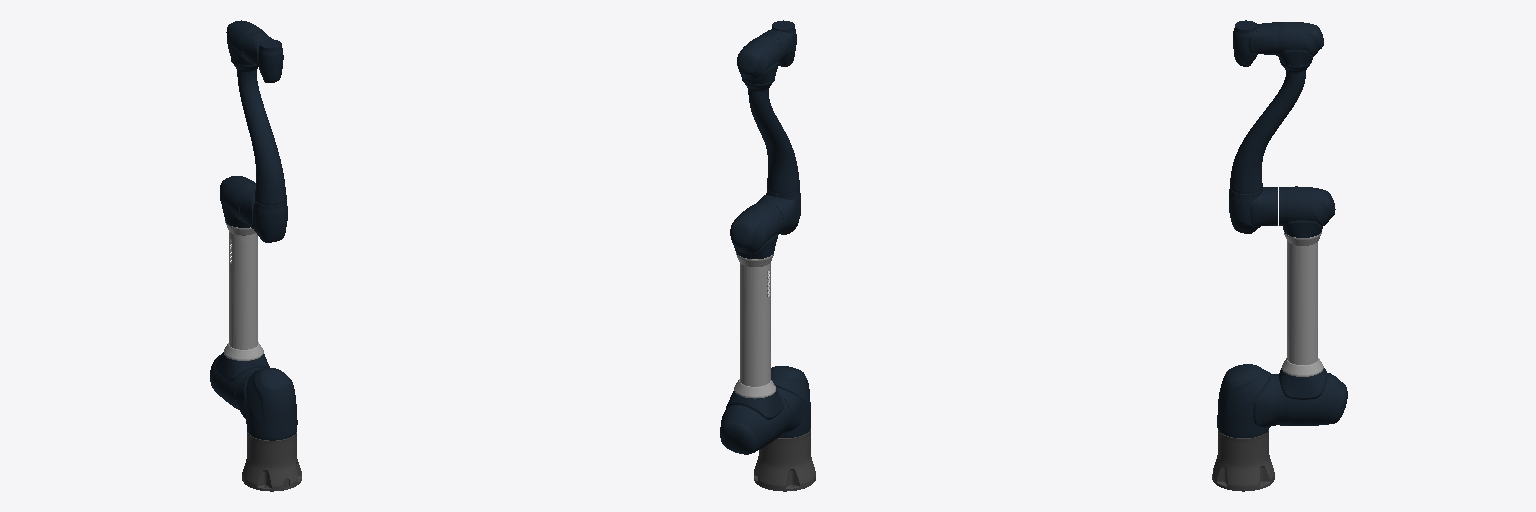
robot.urdf — h2017:
<?xml version="1.0" ?>
<!-- =================================================================================== -->
<!-- |    This document was autogenerated by xacro from /dsr_description2/xacro/h2017.urdf.xacro | -->
<!-- |    EDITING THIS FILE BY HAND IS NOT RECOMMENDED                                 | -->
<!-- =================================================================================== -->
<robot name="h2017">
  <material name="black">
    <color rgba="0.0 0.0 0.0 1.0"/>
  </material>
  <material name="white">
    <color rgba="1.0 1.0 1.0 1.0"/>
  </material>
  <material name="orange">
    <color rgba="1.0 0.4 0.0 1.0"/>
  </material>
  <material name="dr_gray">
    <color rgba="0.490 0.490 0.486 1.0"/>
  </material>
  <material name="dr_white">
    <color rgba="0.941 0.941 0.941 1.0"/>
  </material>
  <material name="dr_blue">
    <color rgba="0 0 0.15 1"/>
  </material>
  <link name="base_link">
    <inertial>
      <mass value="8.537"/>
      <origin xyz="1.8e-05   -0.002377    0.095608"/>
      <inertia ixx="0.079499" ixy="2.9382e-05" ixz="1.7529e-05" iyy="0.076993" iyz="-0.0009938" izz="0.067833"/>
    </inertial>
    <collision>
      <origin rpy="0 0 0" xyz="0 0 0"/>
      <geometry>
        <mesh filename="package://dsr_description2/meshes/h2017_collision/H2017_0_0.dae" scale="0.001 0.001 0.001"/>
      </geometry>
    </collision>
    <visual>
      <origin rpy="0 0 0" xyz="0 0 0"/>
      <geometry>
        <mesh filename="package://dsr_description2/meshes/h2017_blue/H2017_0_0.dae" scale="0.001 0.001 0.001"/>
      </geometry>
    </visual>
  </link>
  <!-- joint 1 -->
  <joint name="joint_1" type="revolute">
    <parent link="base_link"/>
    <child link="link_1"/>
    <origin rpy="0 0 0" xyz="0 0 0.3443"/>
    <axis xyz="0 0 1"/>
    <limit effort="372" lower="-6.2832" upper="6.2832" velocity="1.7453"/>
    <dynamics friction="0"/>
  </joint>
  <link name="link_1">
    <inertial>
      <mass value="20.253"/>
      <origin xyz="-5e-05     0.11854   -0.059979"/>
      <inertia ixx="0.5323" ixy="-6.2817e-05" ixz="-7.5664e-06" iyy="0.2807" iyz="-0.14899" izz="0.34857"/>
    </inertial>
    <collision>
      <origin rpy="0 0 0" xyz="0 0 0"/>
      <geometry>
        <mesh filename="package://dsr_description2/meshes/h2017_collision/H2017_1_0.dae" scale="0.001 0.001 0.001"/>
      </geometry>
    </collision>
    <visual>
      <origin rpy="0 0 0" xyz="0 0 0"/>
      <geometry>
        <mesh filename="package://dsr_description2/meshes/h2017_blue/H2017_1_0.dae" scale="0.001 0.001 0.001"/>
      </geometry>
    </visual>
  </link>
  <!-- joint2 -->
  <joint name="joint_2" type="revolute">
    <parent link="link_1"/>
    <child link="link_2"/>
    <origin rpy="0 -1.571 -1.571" xyz="0 0.0099 0"/>
    <axis xyz="0 0 1"/>
    <limit effort="372" lower="-2.1817" upper="2.1817" velocity="1.3963"/>
    <dynamics friction="0"/>
  </joint>
  <link name="link_2">
    <inertial>
      <mass value="28.536"/>
      <origin xyz="0.38055    -1.7e-05     0.22527"/>
      <inertia ixx="0.15388" ixy="-0.00022213" ixz="0.11801" iyy="3.0424" iyz="-5.3325e-05" izz="3.0015"/>
    </inertial>
    <collision>
      <origin rpy="0 0 0" xyz="0 0 0"/>
      <geometry>
        <mesh filename="package://dsr_description2/meshes/h2017_collision/H2017_2_0.dae" scale="0.001 0.001 0.001"/>
      </geometry>
    </collision>
    <visual>
      <origin rpy="0 0 0" xyz="0 0 0"/>
      <geometry>
        <mesh filename="package://dsr_description2/meshes/h2017_blue/H2017_2_0.dae" scale="0.001 0.001 0.001"/>
      </geometry>
    </visual>
    <collision>
      <origin rpy="0 0 0" xyz="0 0 0"/>
      <geometry>
        <mesh filename="package://dsr_description2/meshes/h2017_collision/H2017_2_1.dae" scale="0.001 0.001 0.001"/>
      </geometry>
    </collision>
    <visual>
      <origin rpy="0 0 0" xyz="0 0 0"/>
      <geometry>
        <mesh filename="package://dsr_description2/meshes/h2017_blue/H2017_2_1.dae" scale="0.001 0.001 0.001"/>
      </geometry>
    </visual>
    <collision>
      <origin rpy="0 0 0" xyz="0 0 0"/>
      <geometry>
        <mesh filename="package://dsr_description2/meshes/h2017_collision/H2017_2_2.dae" scale="0.001 0.001 0.001"/>
      </geometry>
    </collision>
    <visual>
      <origin rpy="0 0 0" xyz="0 0 0"/>
      <geometry>
        <mesh filename="package://dsr_description2/meshes/h2017_blue/H2017_2_2.dae" scale="0.001 0.001 0.001"/>
      </geometry>
    </visual>
  </link>
  <!-- joint3 -->
  <joint name="joint_3" type="revolute">
    <parent link="link_2"/>
    <child link="link_3"/>
    <origin rpy="0 0 1.571" xyz="0.845 0 0"/>
    <axis xyz="0 0 1"/>
    <limit effort="372" lower="-2.7925" upper="2.7925" velocity="1.7453"/>
    <dynamics friction="0"/>
  </joint>
  <link name="link_3">
    <inertial>
      <mass value="6.421"/>
      <origin xyz="-5.9e-05   -0.008325    0.049527"/>
      <inertia ixx="0.04463" ixy="3.0207e-05" ixz="-1.0987e-05" iyy="0.041031" iyz="-0.0029929" izz="0.028983"/>
    </inertial>
    <collision>
      <origin rpy="0 0 0" xyz="0 0 0"/>
      <geometry>
        <mesh filename="package://dsr_description2/meshes/h2017_collision/H2017_3_0.dae" scale="0.001 0.001 0.001"/>
      </geometry>
    </collision>
    <visual>
      <origin rpy="0 0 0" xyz="0 0 0"/>
      <geometry>
        <mesh filename="package://dsr_description2/meshes/h2017_blue/H2017_3_0.dae" scale="0.001 0.001 0.001"/>
      </geometry>
    </visual>
  </link>
  <!-- joint4 -->
  <joint name="joint_4" type="revolute">
    <parent link="link_3"/>
    <child link="link_4"/>
    <origin rpy="1.571 0 0" xyz="0 -0.734 0"/>
    <axis xyz="0 0 1"/>
    <limit effort="163" lower="-6.2832" upper="6.2832" velocity="3.1416"/>
    <dynamics friction="0"/>
  </joint>
  <link name="link_4">
    <inertial>
      <mass value="7.59"/>
      <origin xyz="7.7e-05     0.12896    -0.22056"/>
      <inertia ixx="0.60329" ixy="-6.8213e-05" ixz="-0.00013439" iyy="0.54966" iyz="-0.159" izz="0.078126"/>
    </inertial>
    <collision>
      <origin rpy="0 0 0" xyz="0 0 0"/>
      <geometry>
        <mesh filename="package://dsr_description2/meshes/h2017_collision/H2017_4_0.dae" scale="0.001 0.001 0.001"/>
      </geometry>
    </collision>
    <visual>
      <origin rpy="0 0 0" xyz="0 0 0"/>
      <geometry>
        <mesh filename="package://dsr_description2/meshes/h2017_blue/H2017_4_0.dae" scale="0.001 0.001 0.001"/>
      </geometry>
    </visual>
    <collision>
      <origin rpy="0 0 0" xyz="0 0 0"/>
      <geometry>
        <mesh filename="package://dsr_description2/meshes/h2017_collision/H2017_4_1.dae" scale="0.001 0.001 0.001"/>
      </geometry>
    </collision>
    <visual>
      <origin rpy="0 0 0" xyz="0 0 0"/>
      <geometry>
        <mesh filename="package://dsr_description2/meshes/h2017_blue/H2017_4_1.dae" scale="0.001 0.001 0.001"/>
      </geometry>
    </visual>
  </link>
  <!-- joint5 -->
  <joint name="joint_5" type="revolute">
    <parent link="link_4"/>
    <child link="link_5"/>
    <origin rpy="-1.571 0 0" xyz="0 0 0"/>
    <axis xyz="0 0 1"/>
    <limit effort="96" lower="-6.2832" upper="6.2832" velocity="3.1416"/>
    <dynamics friction="0"/>
  </joint>
  <link name="link_5">
    <inertial>
      <mass value="4.099"/>
      <origin xyz="-6.1e-05   -0.000589    0.048812"/>
      <inertia ixx="0.021303" ixy="2.545e-05" ixz="-4.3439e-06" iyy="0.023894" iyz="6.0426e-05" izz="0.014587"/>
    </inertial>
    <collision>
      <origin rpy="0 0 0" xyz="0 0 0"/>
      <geometry>
        <mesh filename="package://dsr_description2/meshes/h2017_collision/H2017_5_0.dae" scale="0.001 0.001 0.001"/>
      </geometry>
    </collision>
    <visual>
      <origin rpy="0 0 0" xyz="0 0 0"/>
      <geometry>
        <mesh filename="package://dsr_description2/meshes/h2017_blue/H2017_5_0.dae" scale="0.001 0.001 0.001"/>
      </geometry>
    </visual>
  </link>
  <!-- joint6 -->
  <joint name="joint_6" type="revolute">
    <parent link="link_5"/>
    <child link="link_6"/>
    <origin rpy="1.571 0 0" xyz="0 -0.121 0"/>
    <axis xyz="0 0 1"/>
    <limit effort="50" lower="-6.2832" upper="6.2832" velocity="3.927"/>
    <dynamics friction="0"/>
  </joint>
  <link name="link_6">
    <inertial>
      <mass value="0.897"/>
      <origin xyz="-3.3e-05     3.6e-05   -0.049443"/>
      <inertia ixx="0.0086582" ixy="7.8198e-06" ixz="2.2495e-06" iyy="0.0068184" iyz="5.6115e-06" izz="0.0080729"/>
    </inertial>
    <collision>
      <origin rpy="0 0 0" xyz="0 0 0"/>
      <geometry>
        <mesh filename="package://dsr_description2/meshes/h2017_collision/H2017_6_0.dae" scale="0.001 0.001 0.001"/>
      </geometry>
    </collision>
    <visual>
      <origin rpy="0 0 0" xyz="0 0 0"/>
      <geometry>
        <mesh filename="package://dsr_description2/meshes/h2017_blue/H2017_6_0.dae" scale="0.001 0.001 0.001"/>
      </geometry>
    </visual>
  </link>
</robot>

--- What the picture shows (computed from the rendered views, not written in the file) ---
3 views of the same robot in one strip: view 1: azimuth 30°, elevation 25°; view 2: azimuth 150°, elevation 25°; view 3: azimuth 270°, elevation 25° (orthographic).
Robot: h2017 — 7 links, 6 joints (6 revolute); root link base_link; default pose: all joints at 0.
Links seen in each view (by area): view 1: link_2, link_4, link_1, base_link, link_3, link_5; view 2: link_2, link_4, base_link, link_1, link_3, link_5; view 3: link_2, link_4, link_1, base_link, link_3, link_5.
Link boxes in pixels (bbox=[...]): link_2: bbox=[210, 176, 269, 409]; link_4: bbox=[226, 20, 286, 205]; link_1: bbox=[235, 368, 297, 440]; base_link: bbox=[242, 432, 301, 491]; link_3: bbox=[239, 190, 287, 242]; link_5: bbox=[243, 32, 283, 82]; link_2: bbox=[720, 201, 790, 454]; link_4: bbox=[737, 34, 799, 194]; base_link: bbox=[754, 429, 815, 491]; link_1: bbox=[771, 366, 810, 437]; link_3: bbox=[758, 189, 800, 234]; link_5: bbox=[760, 20, 796, 66]; link_2: bbox=[1276, 186, 1347, 425]; link_4: bbox=[1230, 22, 1323, 193]; link_1: bbox=[1217, 364, 1275, 437]; base_link: bbox=[1212, 430, 1274, 491]; link_3: bbox=[1229, 187, 1277, 233]; link_5: bbox=[1233, 20, 1274, 66].
Bounding box of the posed robot: 0.248 × 0.5376 × 1.99 m (x, y, z).
Meshes: 10 distinct files referenced, 9 mesh visuals loaded (9 Collada DAE); not drawn: 1 (reference not matched to a file when rendering).
